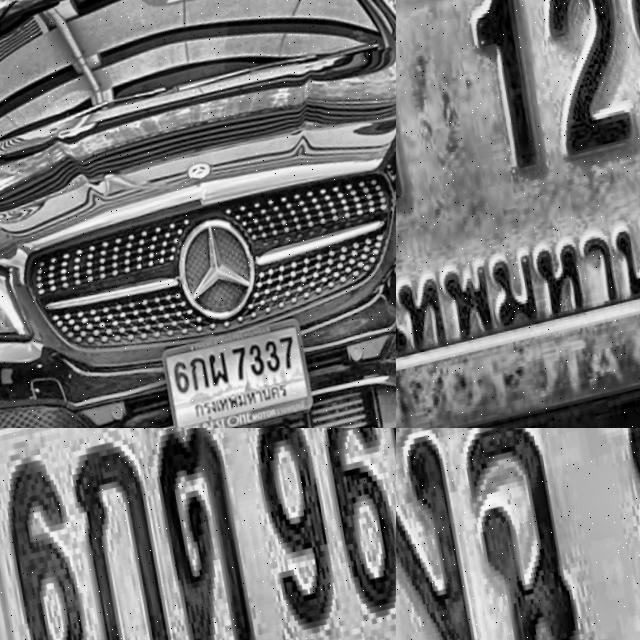license-plate: (396, 0, 640, 428), (0, 428, 396, 640), (396, 428, 640, 640), (159, 327, 310, 428)
